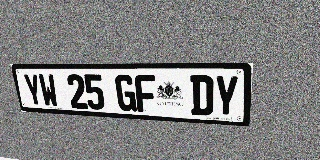2: (66, 74, 88, 109)
5: (83, 74, 106, 110)
D: (190, 75, 214, 116)
F: (134, 75, 157, 113)
G: (114, 74, 137, 112)
W: (38, 74, 59, 107)
Y: (214, 75, 239, 117), (22, 74, 44, 107)
